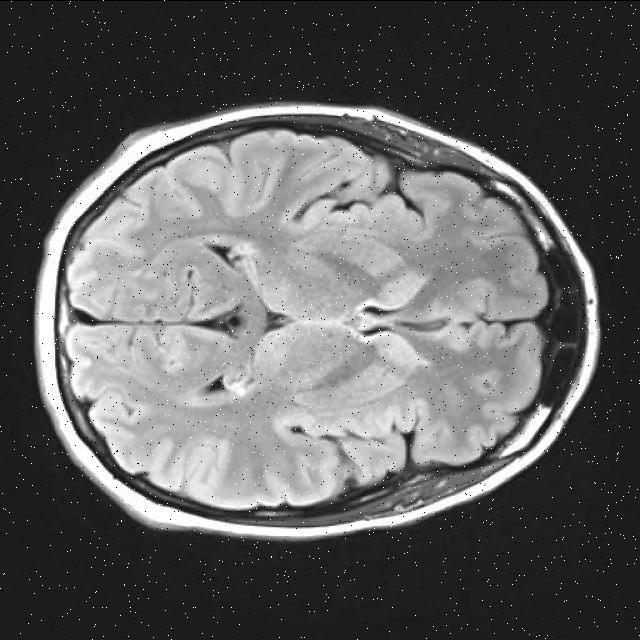No_Tumor: (36, 104, 598, 538)
